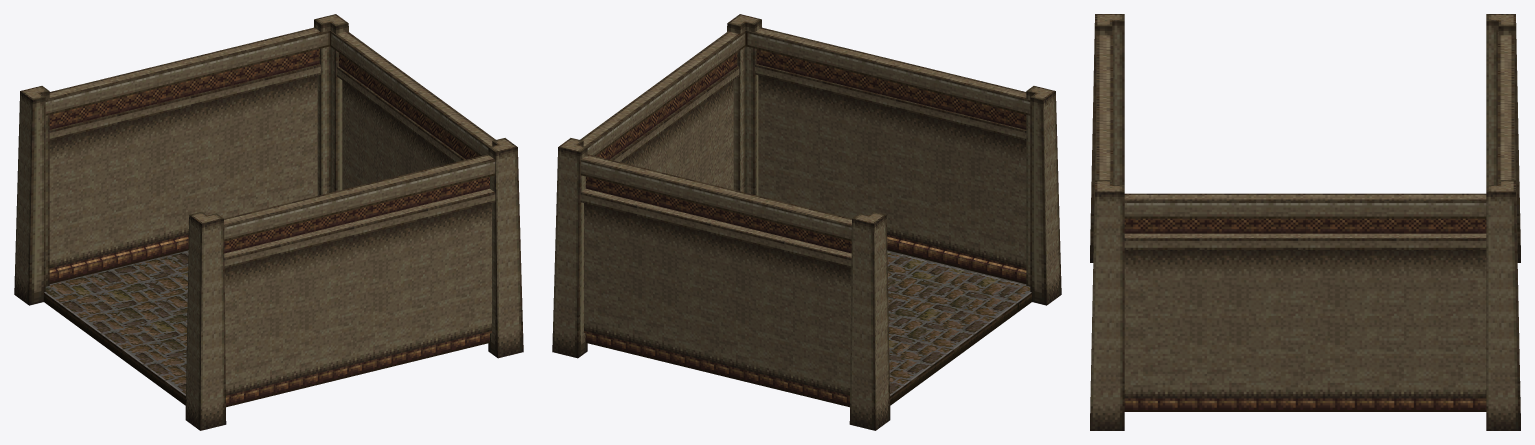
The model's file is EnvBdgMD_Wilderness_C_Indoor_House_AC.FBX.
The picture shows the model from 3 angles, left to right: view 1: azimuth 30°, elevation 25°; view 2: azimuth 150°, elevation 25°; view 3: azimuth 270°, elevation 25°; orthographic projection. The views are drawn at different scales.
Visible parts, largest first — view 1: EnvBdgMD_Wilderness_C_Indoor_House_AC; view 2: EnvBdgMD_Wilderness_C_Indoor_House_AC; view 3: EnvBdgMD_Wilderness_C_Indoor_House_AC.
Boxes of the visible parts, x1,y1,x2,y2 form: EnvBdgMD_Wilderness_C_Indoor_House_AC: [14, 14, 523, 430]; EnvBdgMD_Wilderness_C_Indoor_House_AC: [552, 14, 1061, 430]; EnvBdgMD_Wilderness_C_Indoor_House_AC: [1090, 14, 1520, 430].
Size of the model in its own units: 878 by 530 by 875.
Materials: 1 (1 with a texture image).
